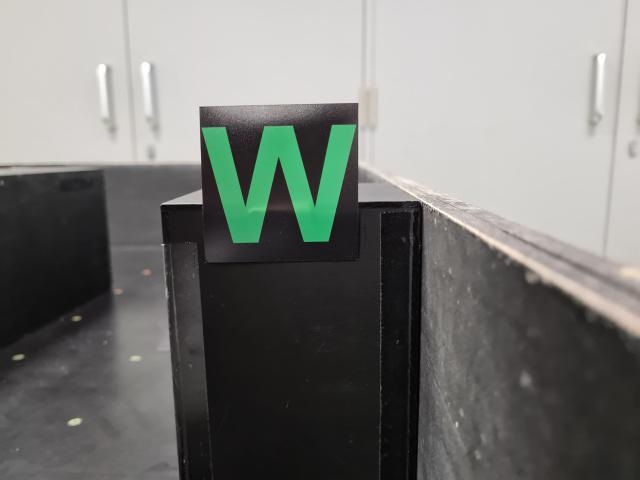alphabet_w: (199, 104, 360, 262)
